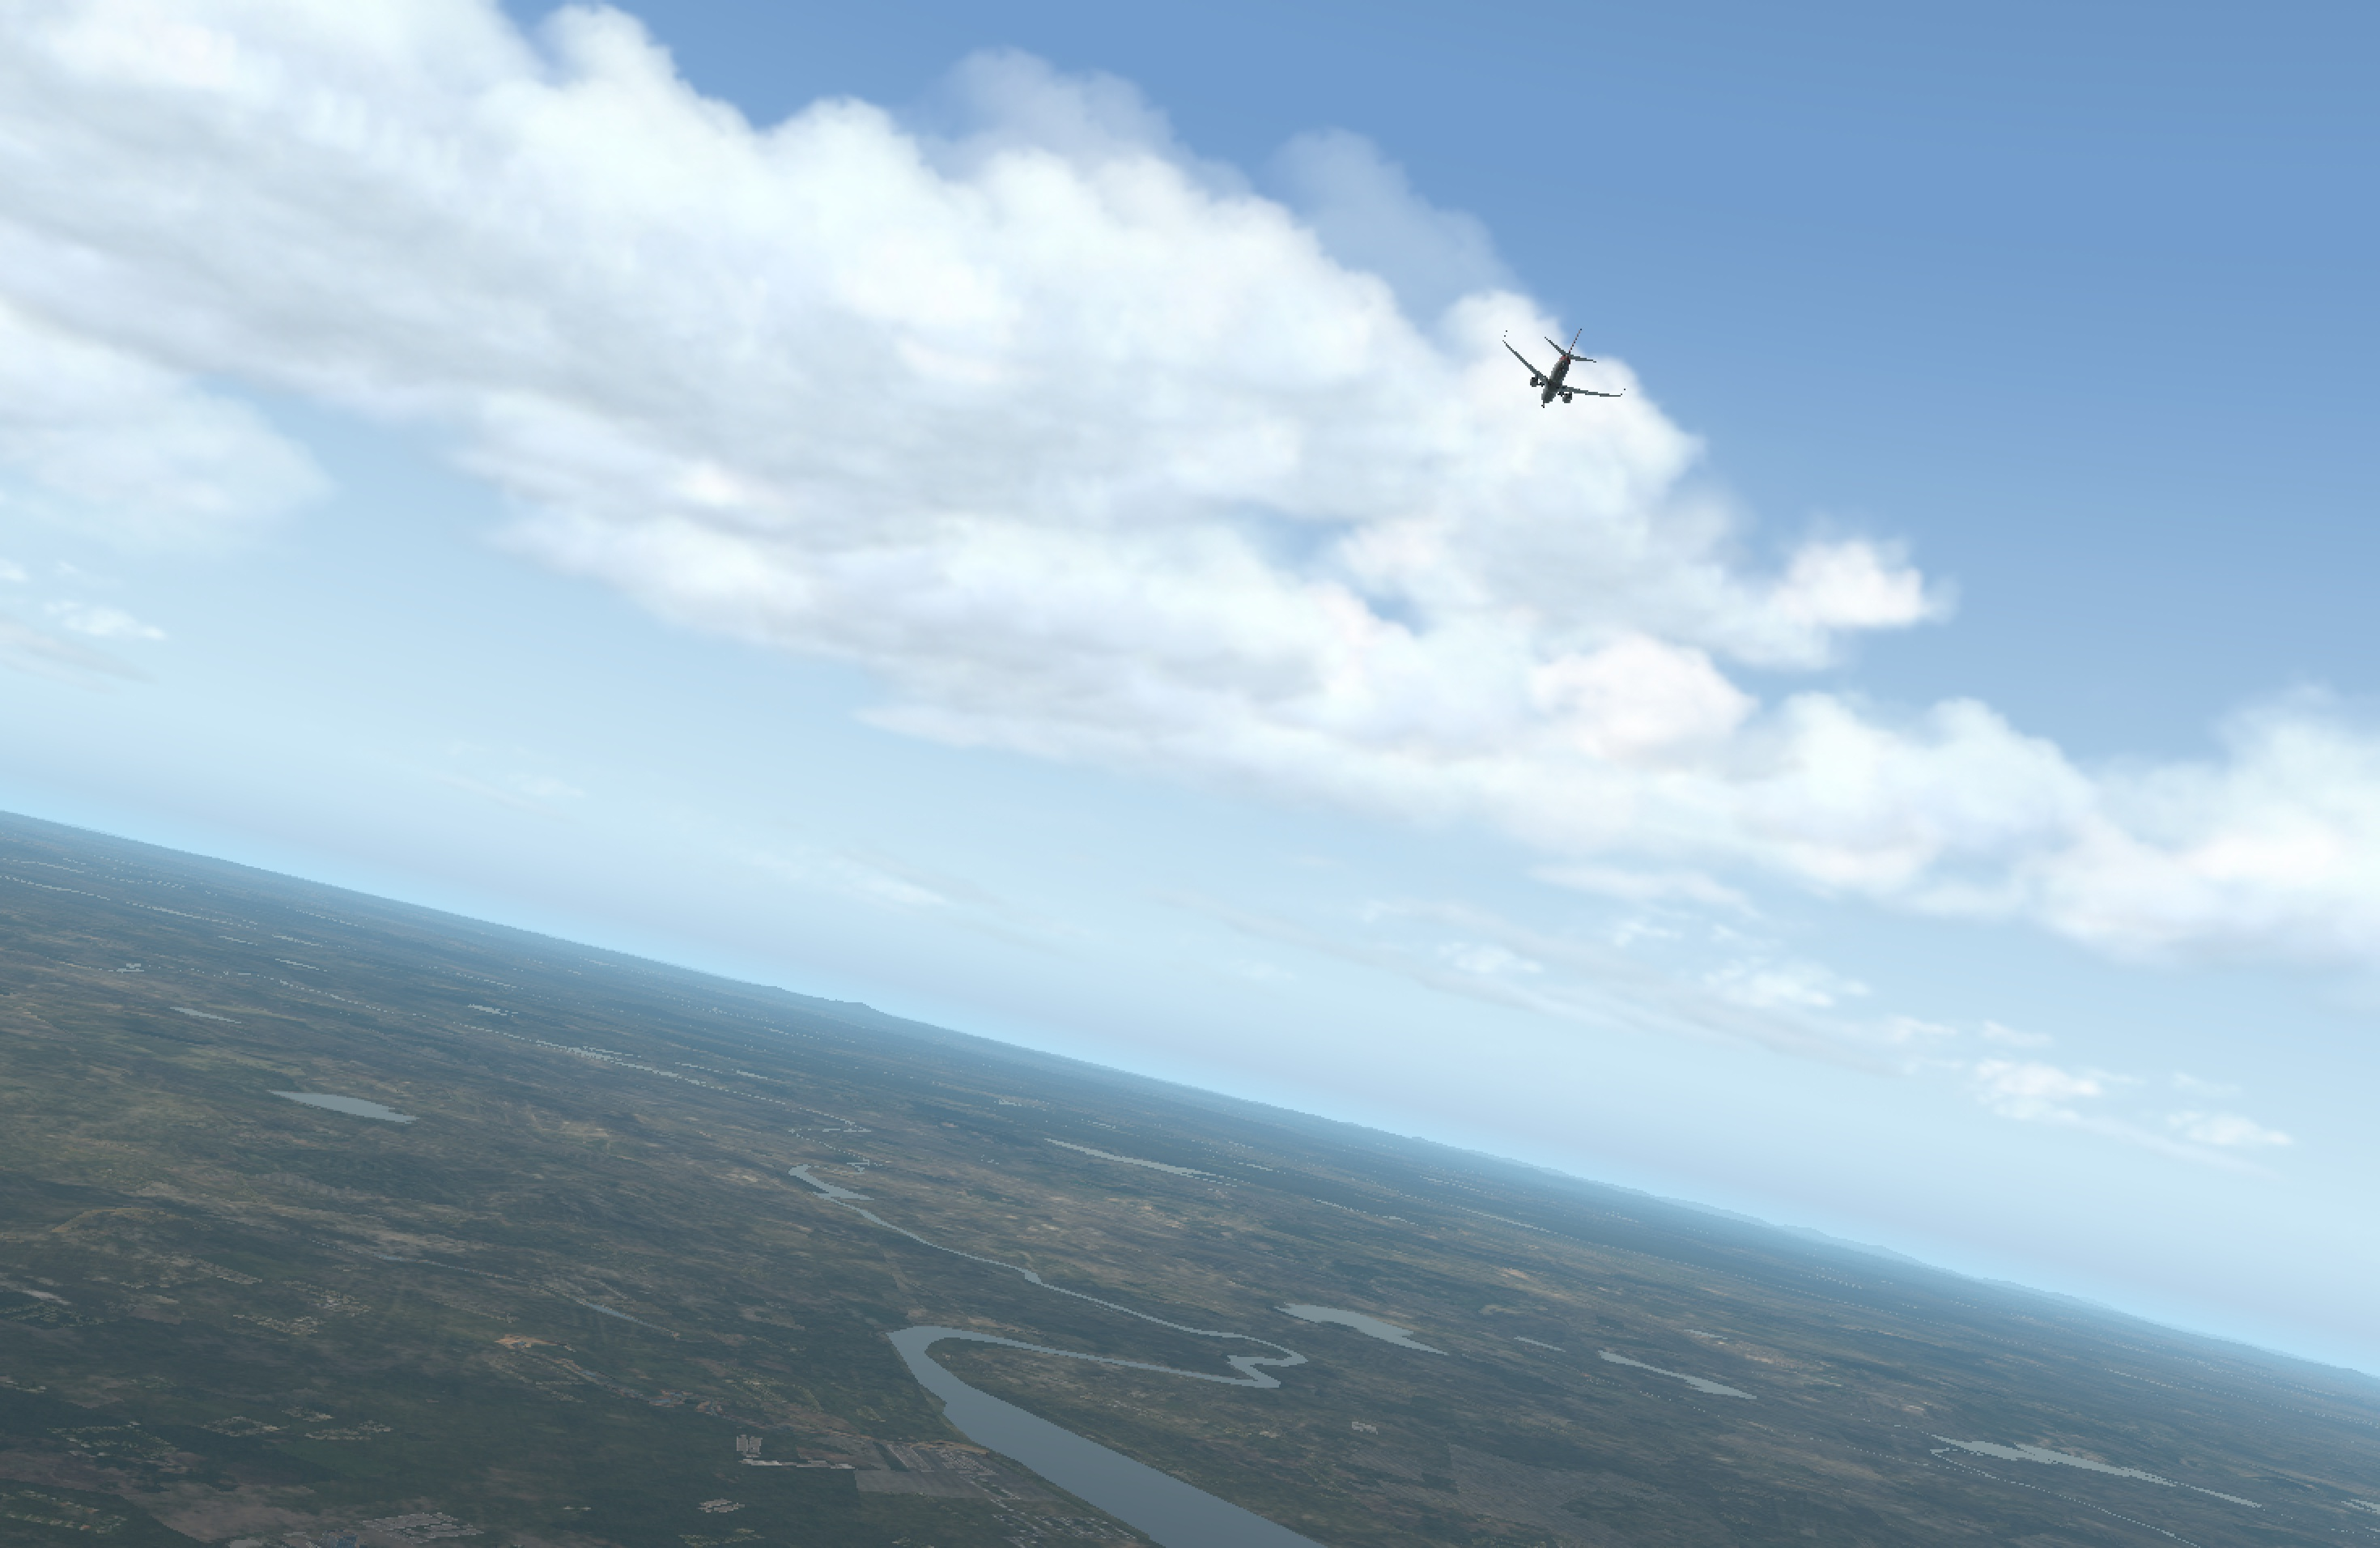aircraft: (1483, 356, 1625, 410)
